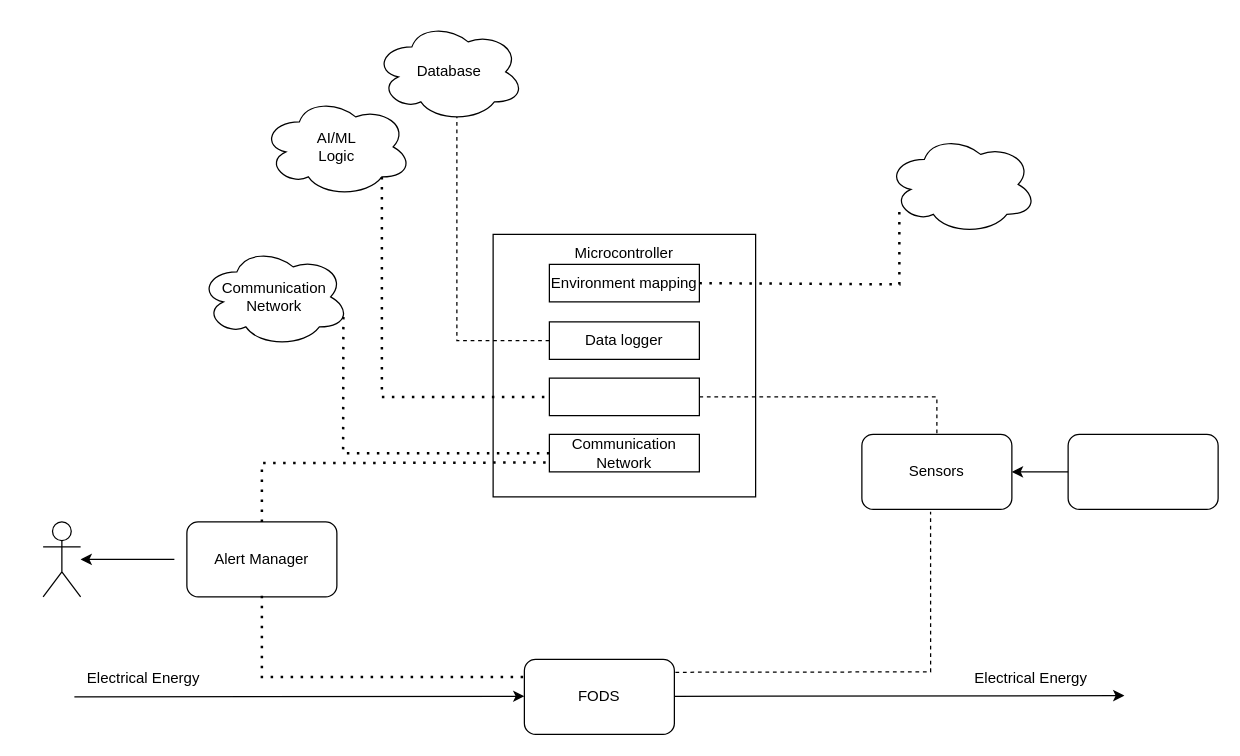
Some shapes in this 1240 by 756 pixel diagram are drawn without their labels. The shapes that lost their labels are listed below. From the top down, each one's centre as x and y in pixels, then its label:
At [961,183]: "GPS Mapper".
At [623,396]: "Obstacle detection".
At [1142,471]: "Obstacle".
At [61,559]: "Stakeholder".
